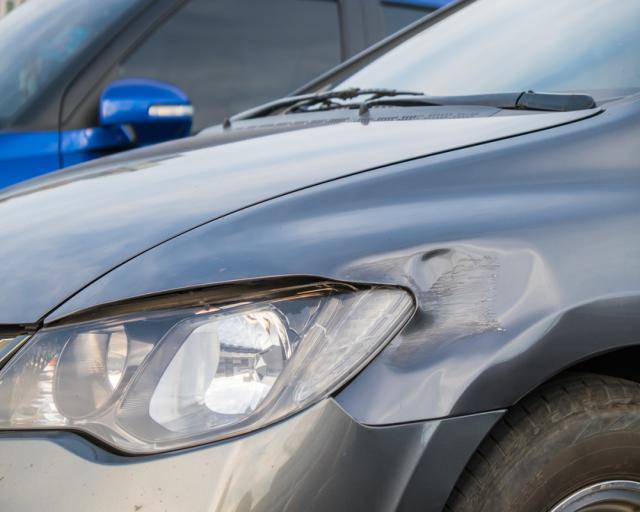dent: (344, 246, 561, 369)
